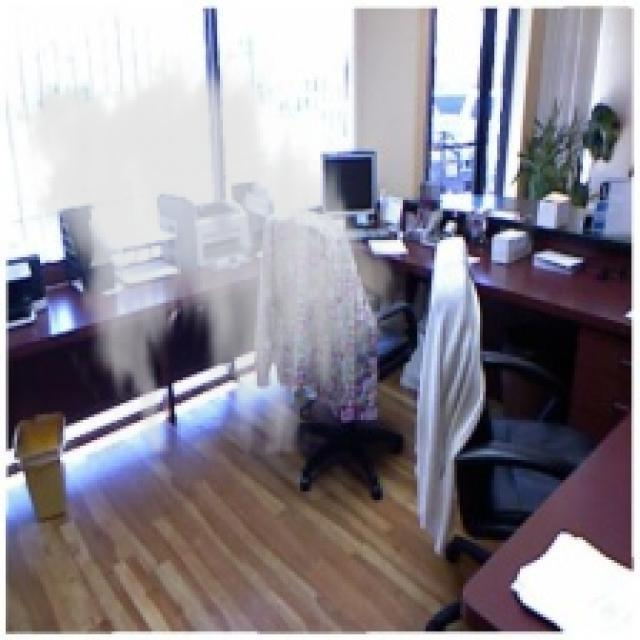Smoke: (8, 52, 406, 454)
